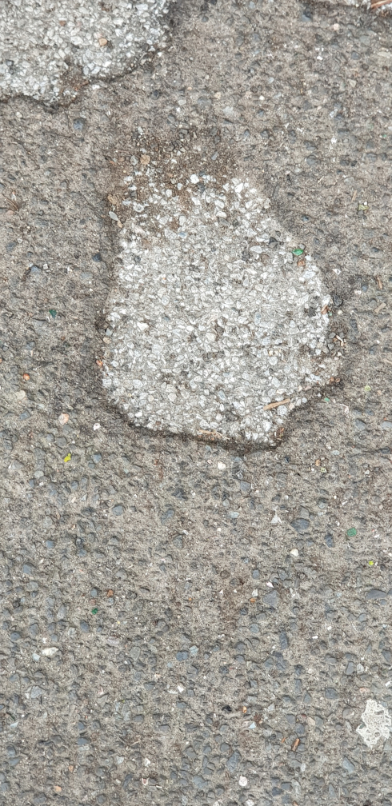pothole: (80, 139, 360, 459), (0, 0, 181, 120)
